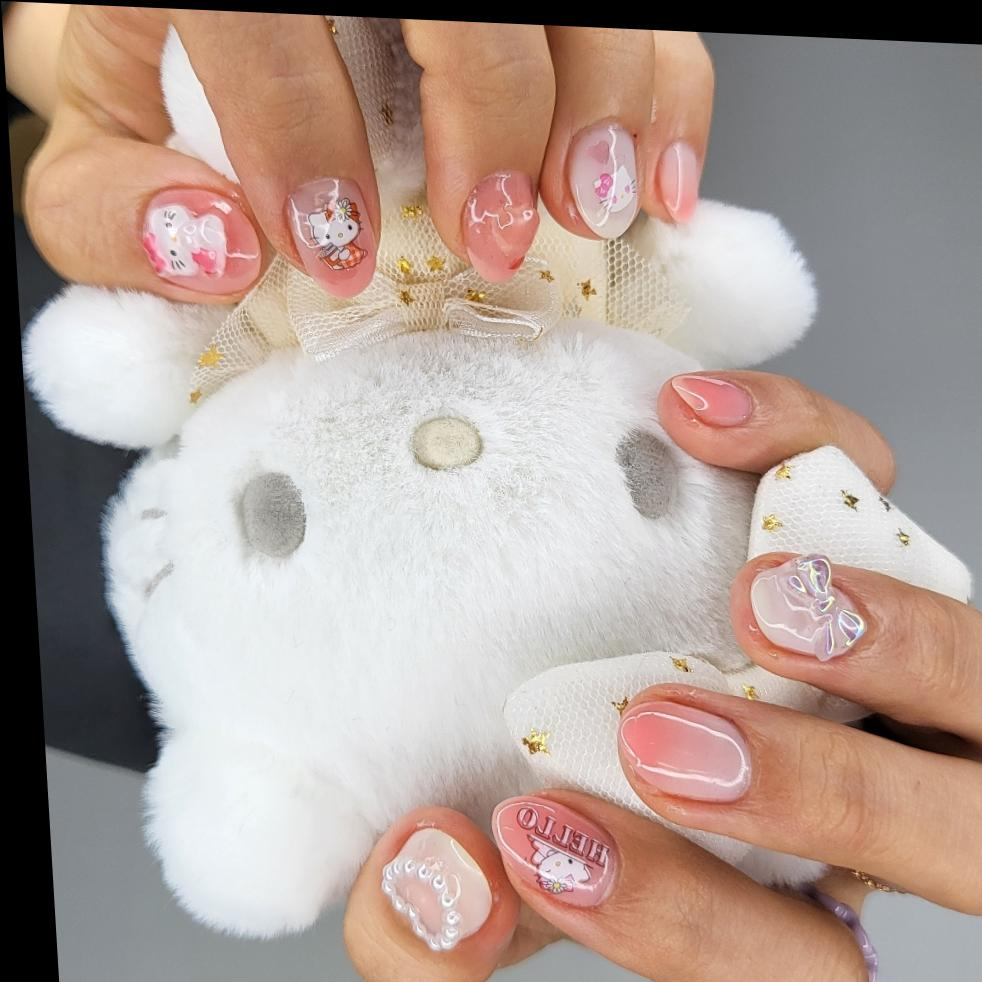nail: (614, 697, 754, 806), (282, 173, 380, 300), (454, 167, 543, 286), (560, 119, 642, 242), (668, 372, 754, 430), (651, 138, 701, 225)
